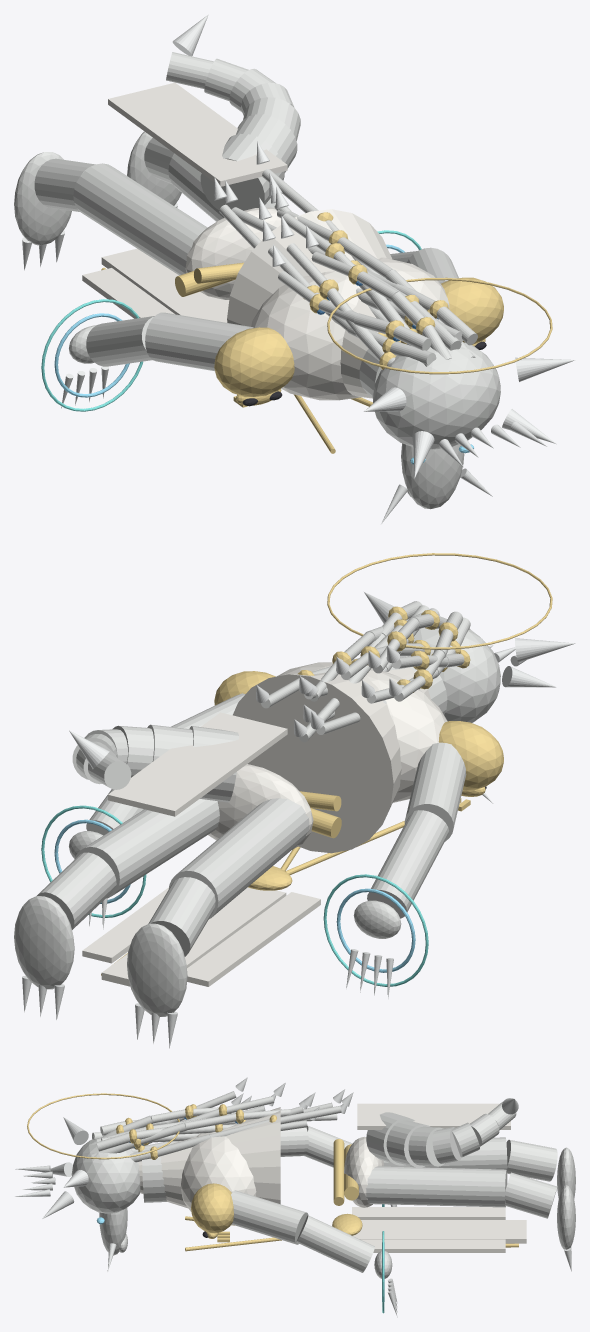
Rendered from torinn_rhogar_proxy_LOD0.glb.
The picture shows the model from 3 angles, top to bottom: view 1: azimuth 30°, elevation 25°; view 2: azimuth 150°, elevation 25°; view 3: azimuth 270°, elevation 25°; orthographic projection. The views are drawn at different scales.
Visible parts, largest first — view 1: part_025, part_001, part_009, part_010, part_000, part_041, part_055, part_006, part_002, part_012, part_026, part_056 (+23 smaller); view 2: part_000, part_009, part_010, part_017, part_019, part_012, part_056, part_001, part_007, part_025, part_055, part_006 (+21 smaller); view 3: part_017, part_000, part_025, part_006, part_001, part_009, part_065, part_066, part_007, part_008, part_048, part_011 (+30 smaller).
Part boxes in pixels (x1,y1,x2,y2): part_025: (372, 342, 500, 449); part_001: (251, 257, 449, 400); part_009: (108, 82, 287, 186); part_010: (73, 163, 207, 275); part_000: (227, 209, 391, 398); part_041: (214, 327, 294, 396); part_055: (145, 312, 253, 371); part_006: (101, 248, 229, 322); part_002: (185, 207, 281, 299); part_012: (14, 152, 71, 245); part_026: (401, 443, 464, 509); part_056: (86, 316, 154, 366); part_000: (233, 667, 431, 853); part_009: (108, 712, 287, 816); part_010: (168, 798, 309, 918); part_017: (74, 799, 219, 898); part_019: (14, 896, 74, 989); part_012: (127, 923, 187, 1016); part_056: (367, 810, 448, 918); part_001: (277, 662, 447, 802); part_007: (187, 892, 320, 986); part_025: (413, 627, 500, 722); part_055: (404, 742, 466, 841); part_006: (101, 887, 286, 986); part_017: (365, 1166, 507, 1207); part_000: (138, 1107, 280, 1208); part_025: (71, 1137, 140, 1213); part_006: (353, 1220, 526, 1243); part_001: (181, 1130, 256, 1224); part_009: (357, 1103, 510, 1129); part_065: (231, 1190, 308, 1244); part_066: (296, 1215, 374, 1272); part_007: (352, 1207, 505, 1219); part_008: (360, 1239, 505, 1252); part_048: (191, 1183, 233, 1233); part_011: (506, 1139, 557, 1181).
Bounding box in the file's own units: 2.88 × 1.96 × 5.31.
